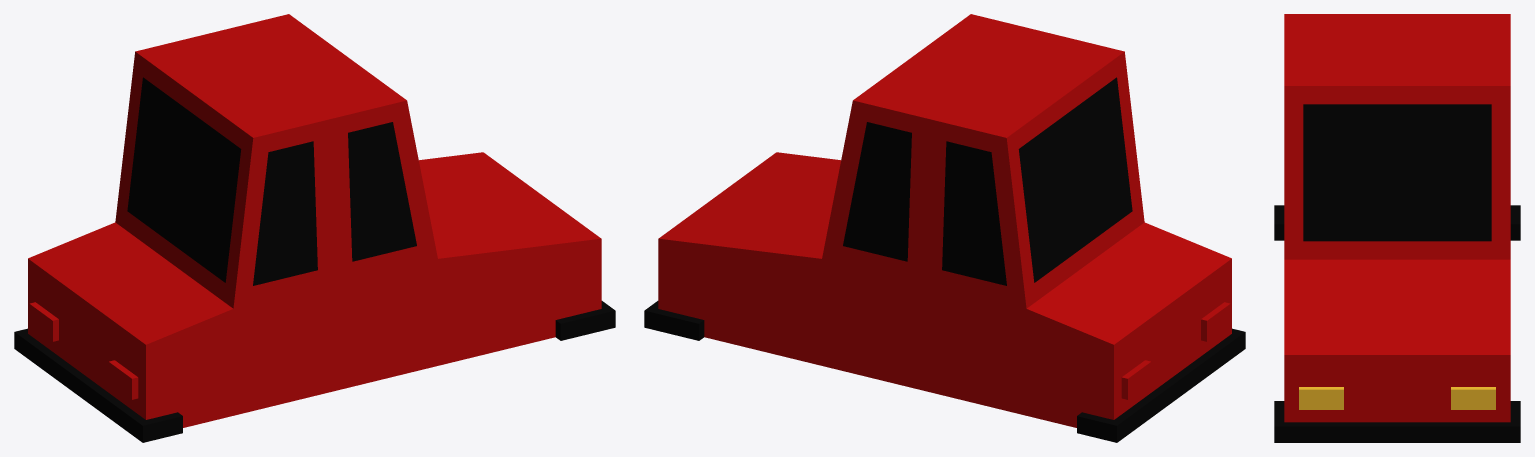
The model's file is CityCar_Sedan_04.fbx.
The picture shows the model from 3 angles, left to right: view 1: azimuth 30°, elevation 25°; view 2: azimuth 150°, elevation 25°; view 3: azimuth 270°, elevation 25°; orthographic projection. The views are drawn at different scales.
Parts seen in each view (by area): view 1: CityCar_Sedan_04; view 2: CityCar_Sedan_04; view 3: CityCar_Sedan_04.
Boxes of the visible parts, x1,y1,x2,y2 form: CityCar_Sedan_04: (14,14,615,442); CityCar_Sedan_04: (644,14,1245,442); CityCar_Sedan_04: (1274,14,1520,442).
Bounding box in the file's own units: 0.4902 × 0.2706 × 0.2307.
